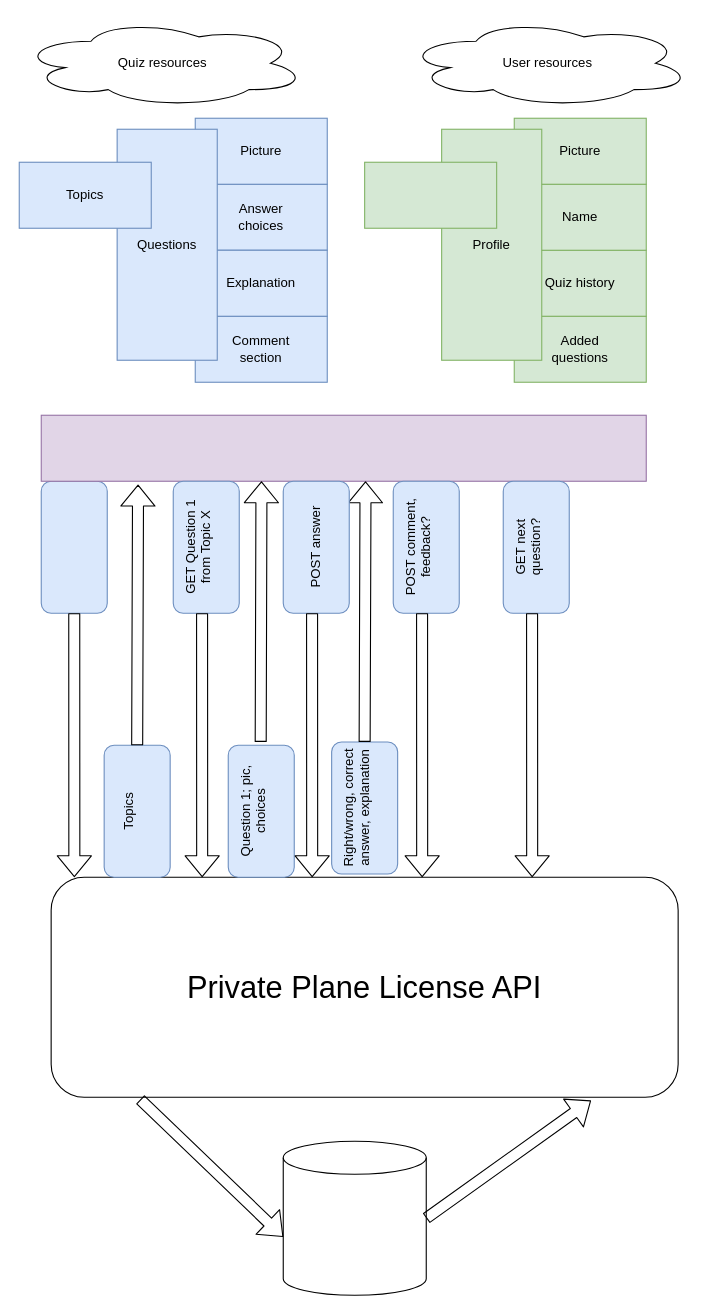
This 711x1315 diagram has some shape labels left out. Here are the shapes that lost their labels. From the top down, the centre of each, then its label:
At point (430, 194): "Users".
At point (343, 447): "Web Client".
At point (73, 546): "GET Topics".
At point (354, 1217): "Database".
